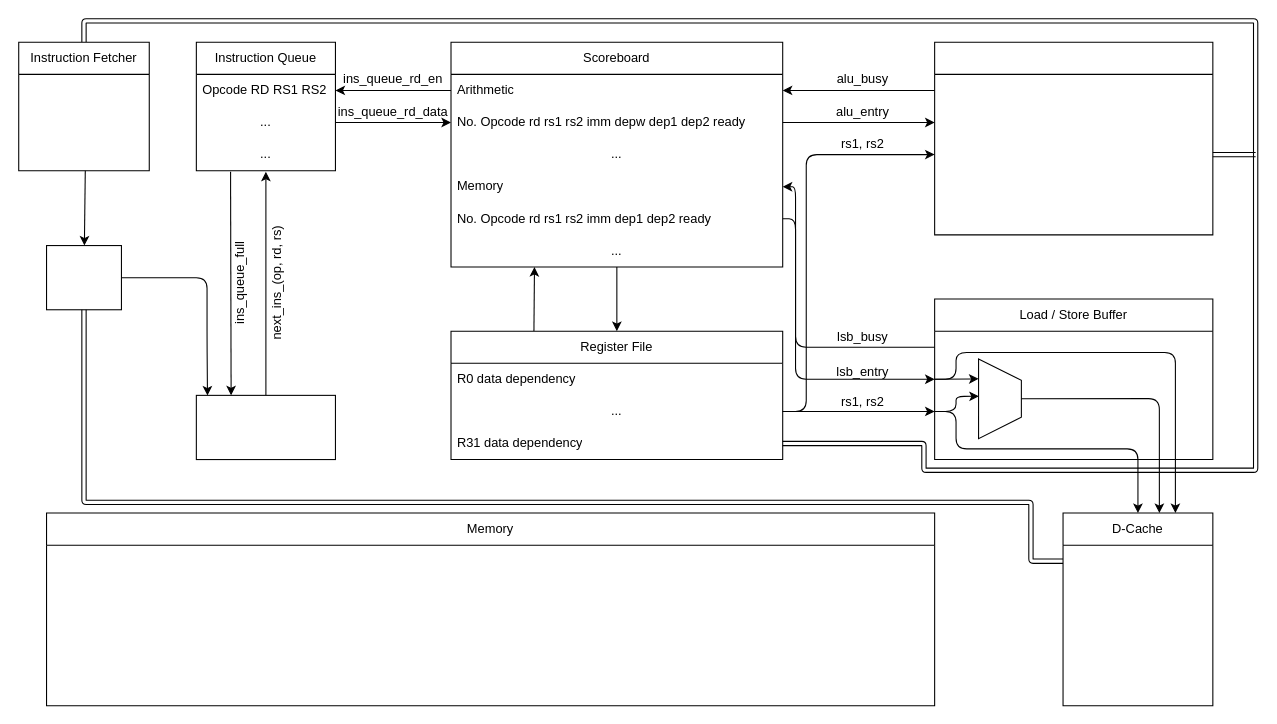
Some shapes in this 1277 by 724 pixel diagram are drawn without their labels. The centre of each missing label's shape, as x and y in pixels:
ADDER: (999,398)
Arithmetic Logic Unit: (1073,138)
I-Cache: (83,277)
I-Decode: (265,427)
